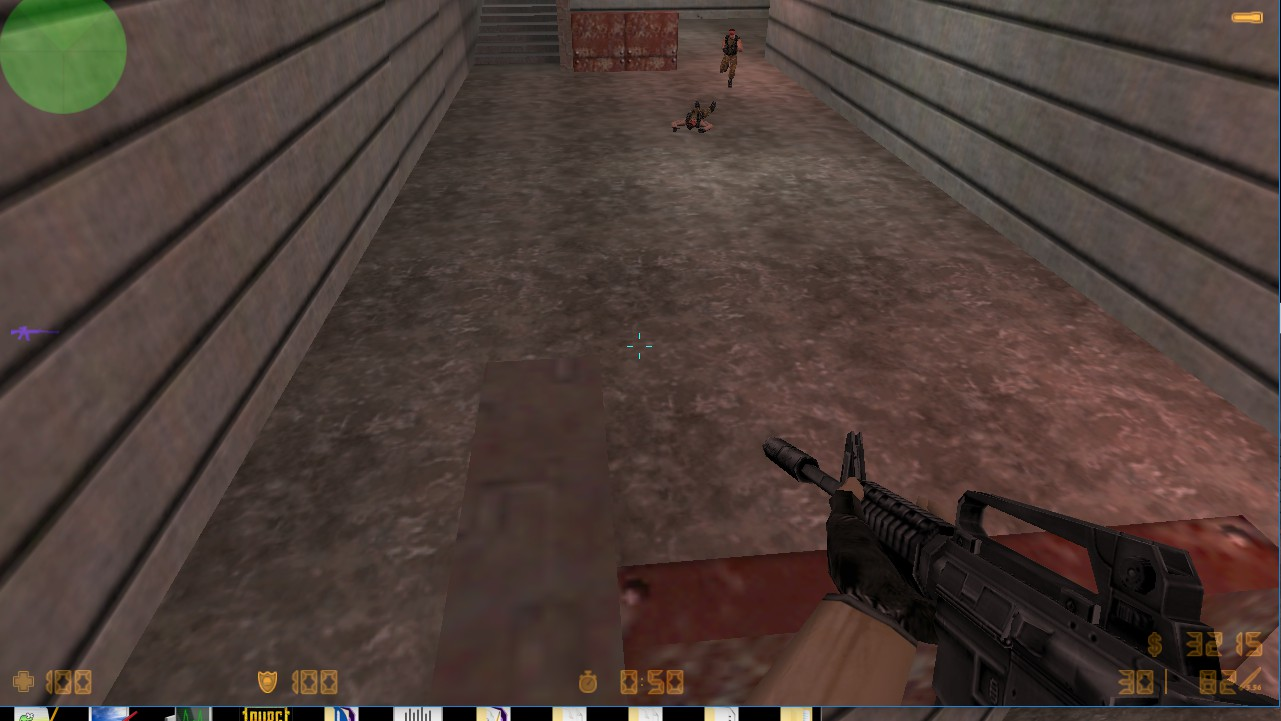person: (716, 23, 747, 95)
